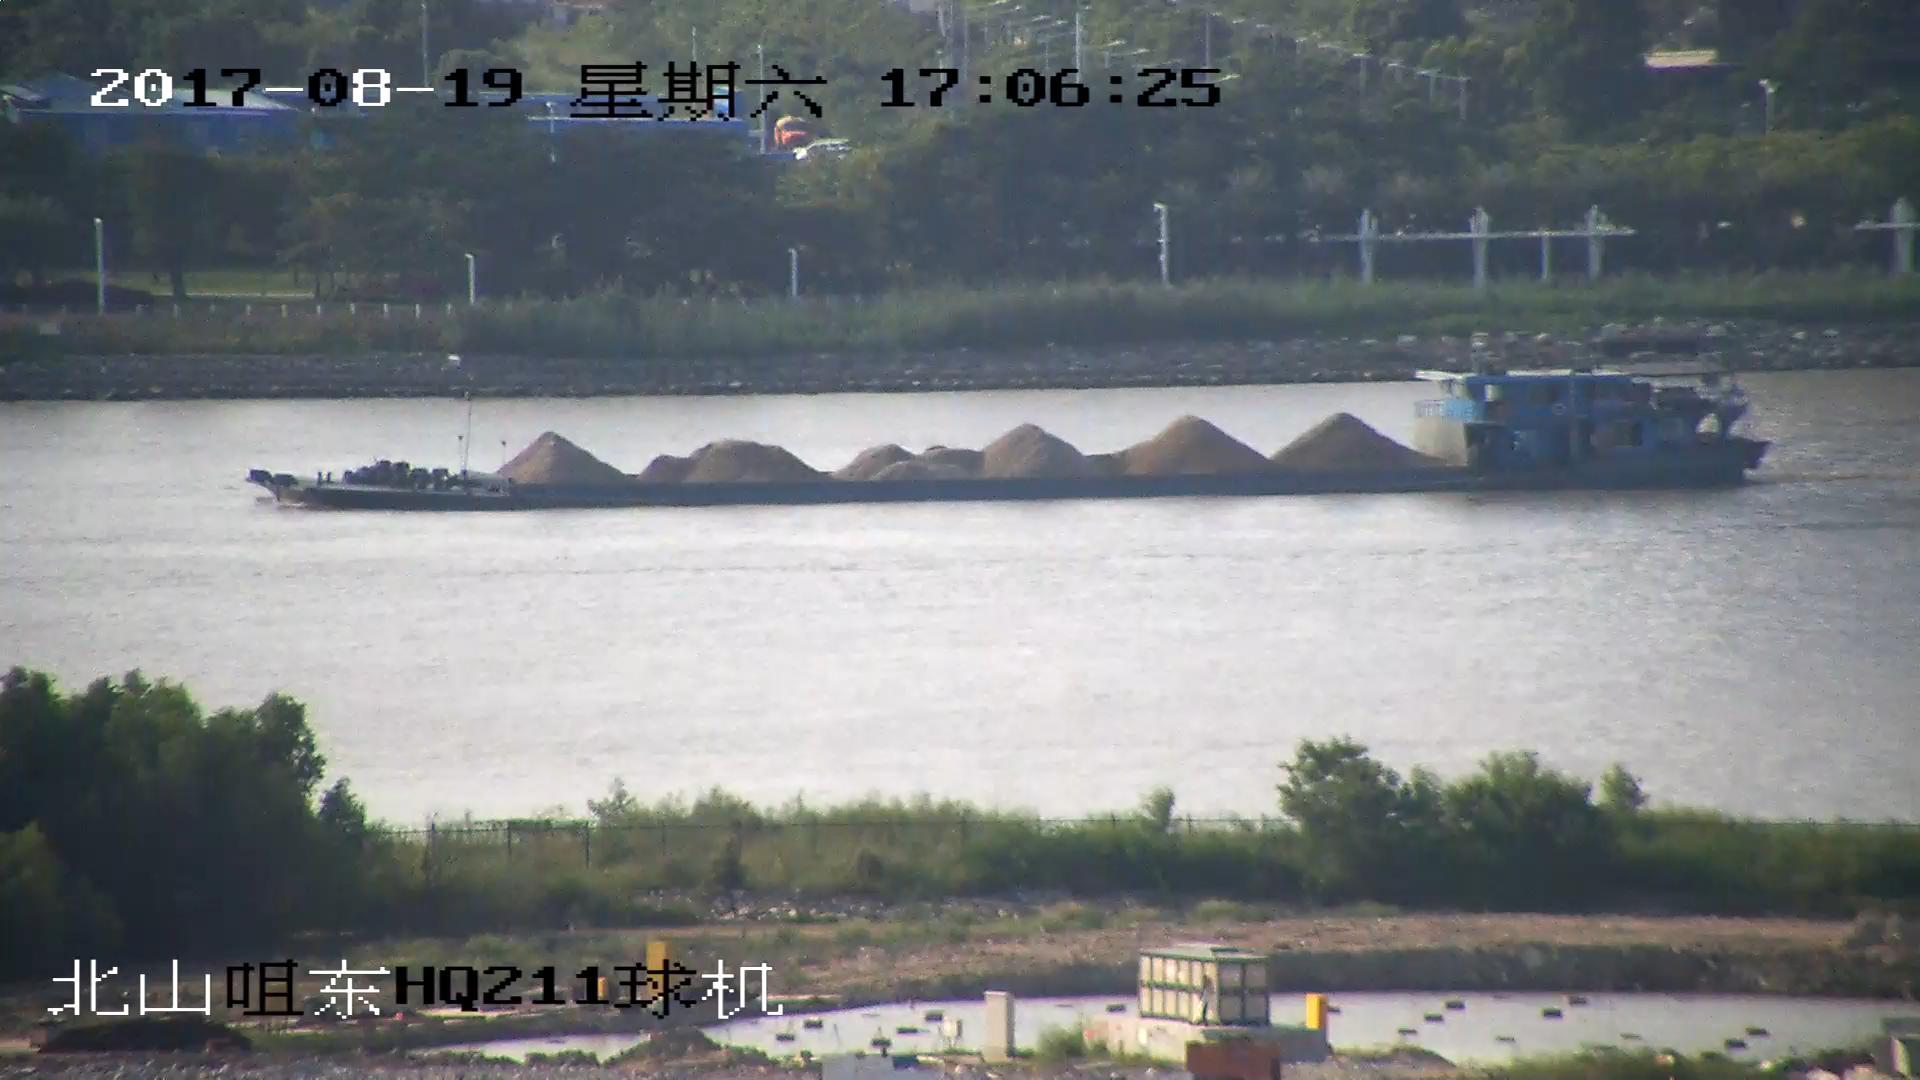Ship: (245, 363, 1775, 509)
